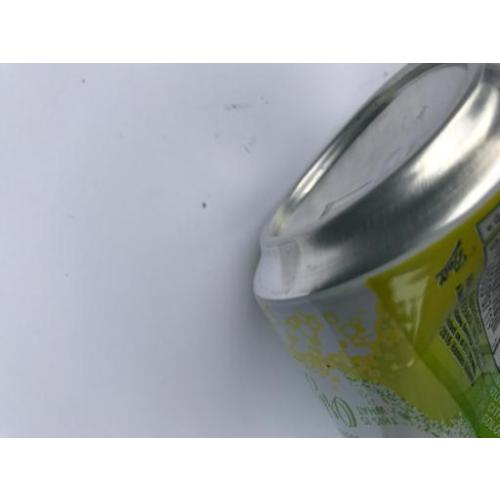metal: (253, 65, 499, 435)
